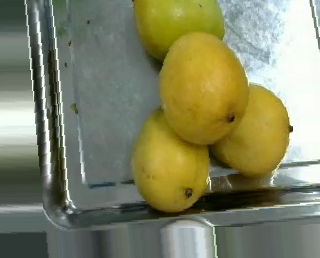Mango: (155, 29, 251, 146), (128, 105, 211, 213), (208, 83, 290, 179), (129, 0, 228, 61)
